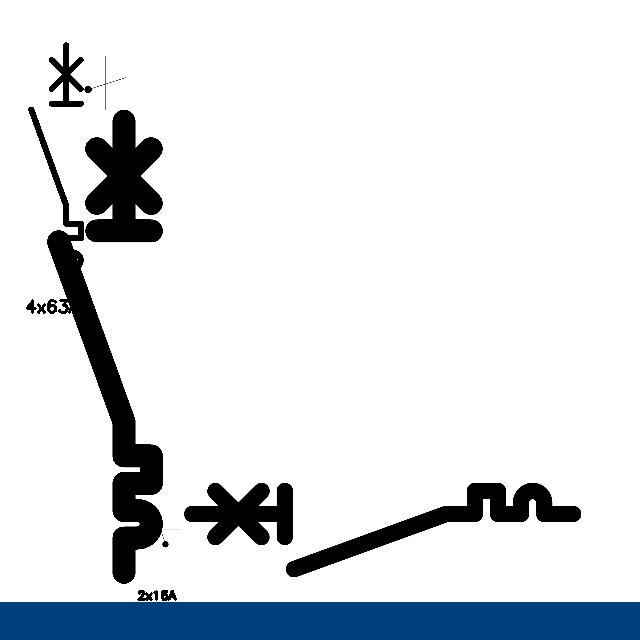interruptor_termomagnetico: (47, 109, 163, 583), (182, 481, 583, 579), (25, 39, 87, 292)
